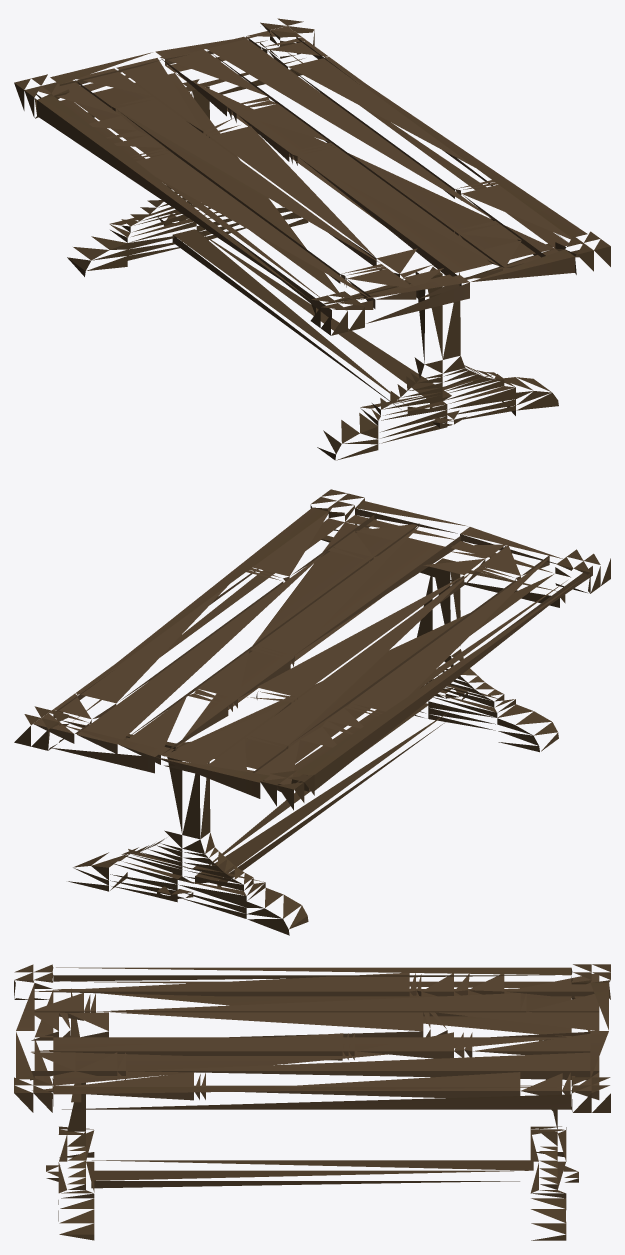
The model's file is meeting_table_01.glb.
3 renders of one model, top to bottom at view 1: azimuth 30°, elevation 25°; view 2: azimuth 150°, elevation 25°; view 3: azimuth 270°, elevation 25°, orthographic. The views are drawn at different scales.
Visible parts, largest first — view 1: geometry_0; view 2: geometry_0; view 3: geometry_0.
Part boxes in pixels (x1,y1,x2,y2): geometry_0: (14, 18, 610, 460); geometry_0: (14, 489, 610, 935); geometry_0: (14, 964, 610, 1240).
Bounding box in the file's own units: 1.42 × 0.8244 × 2.78.
